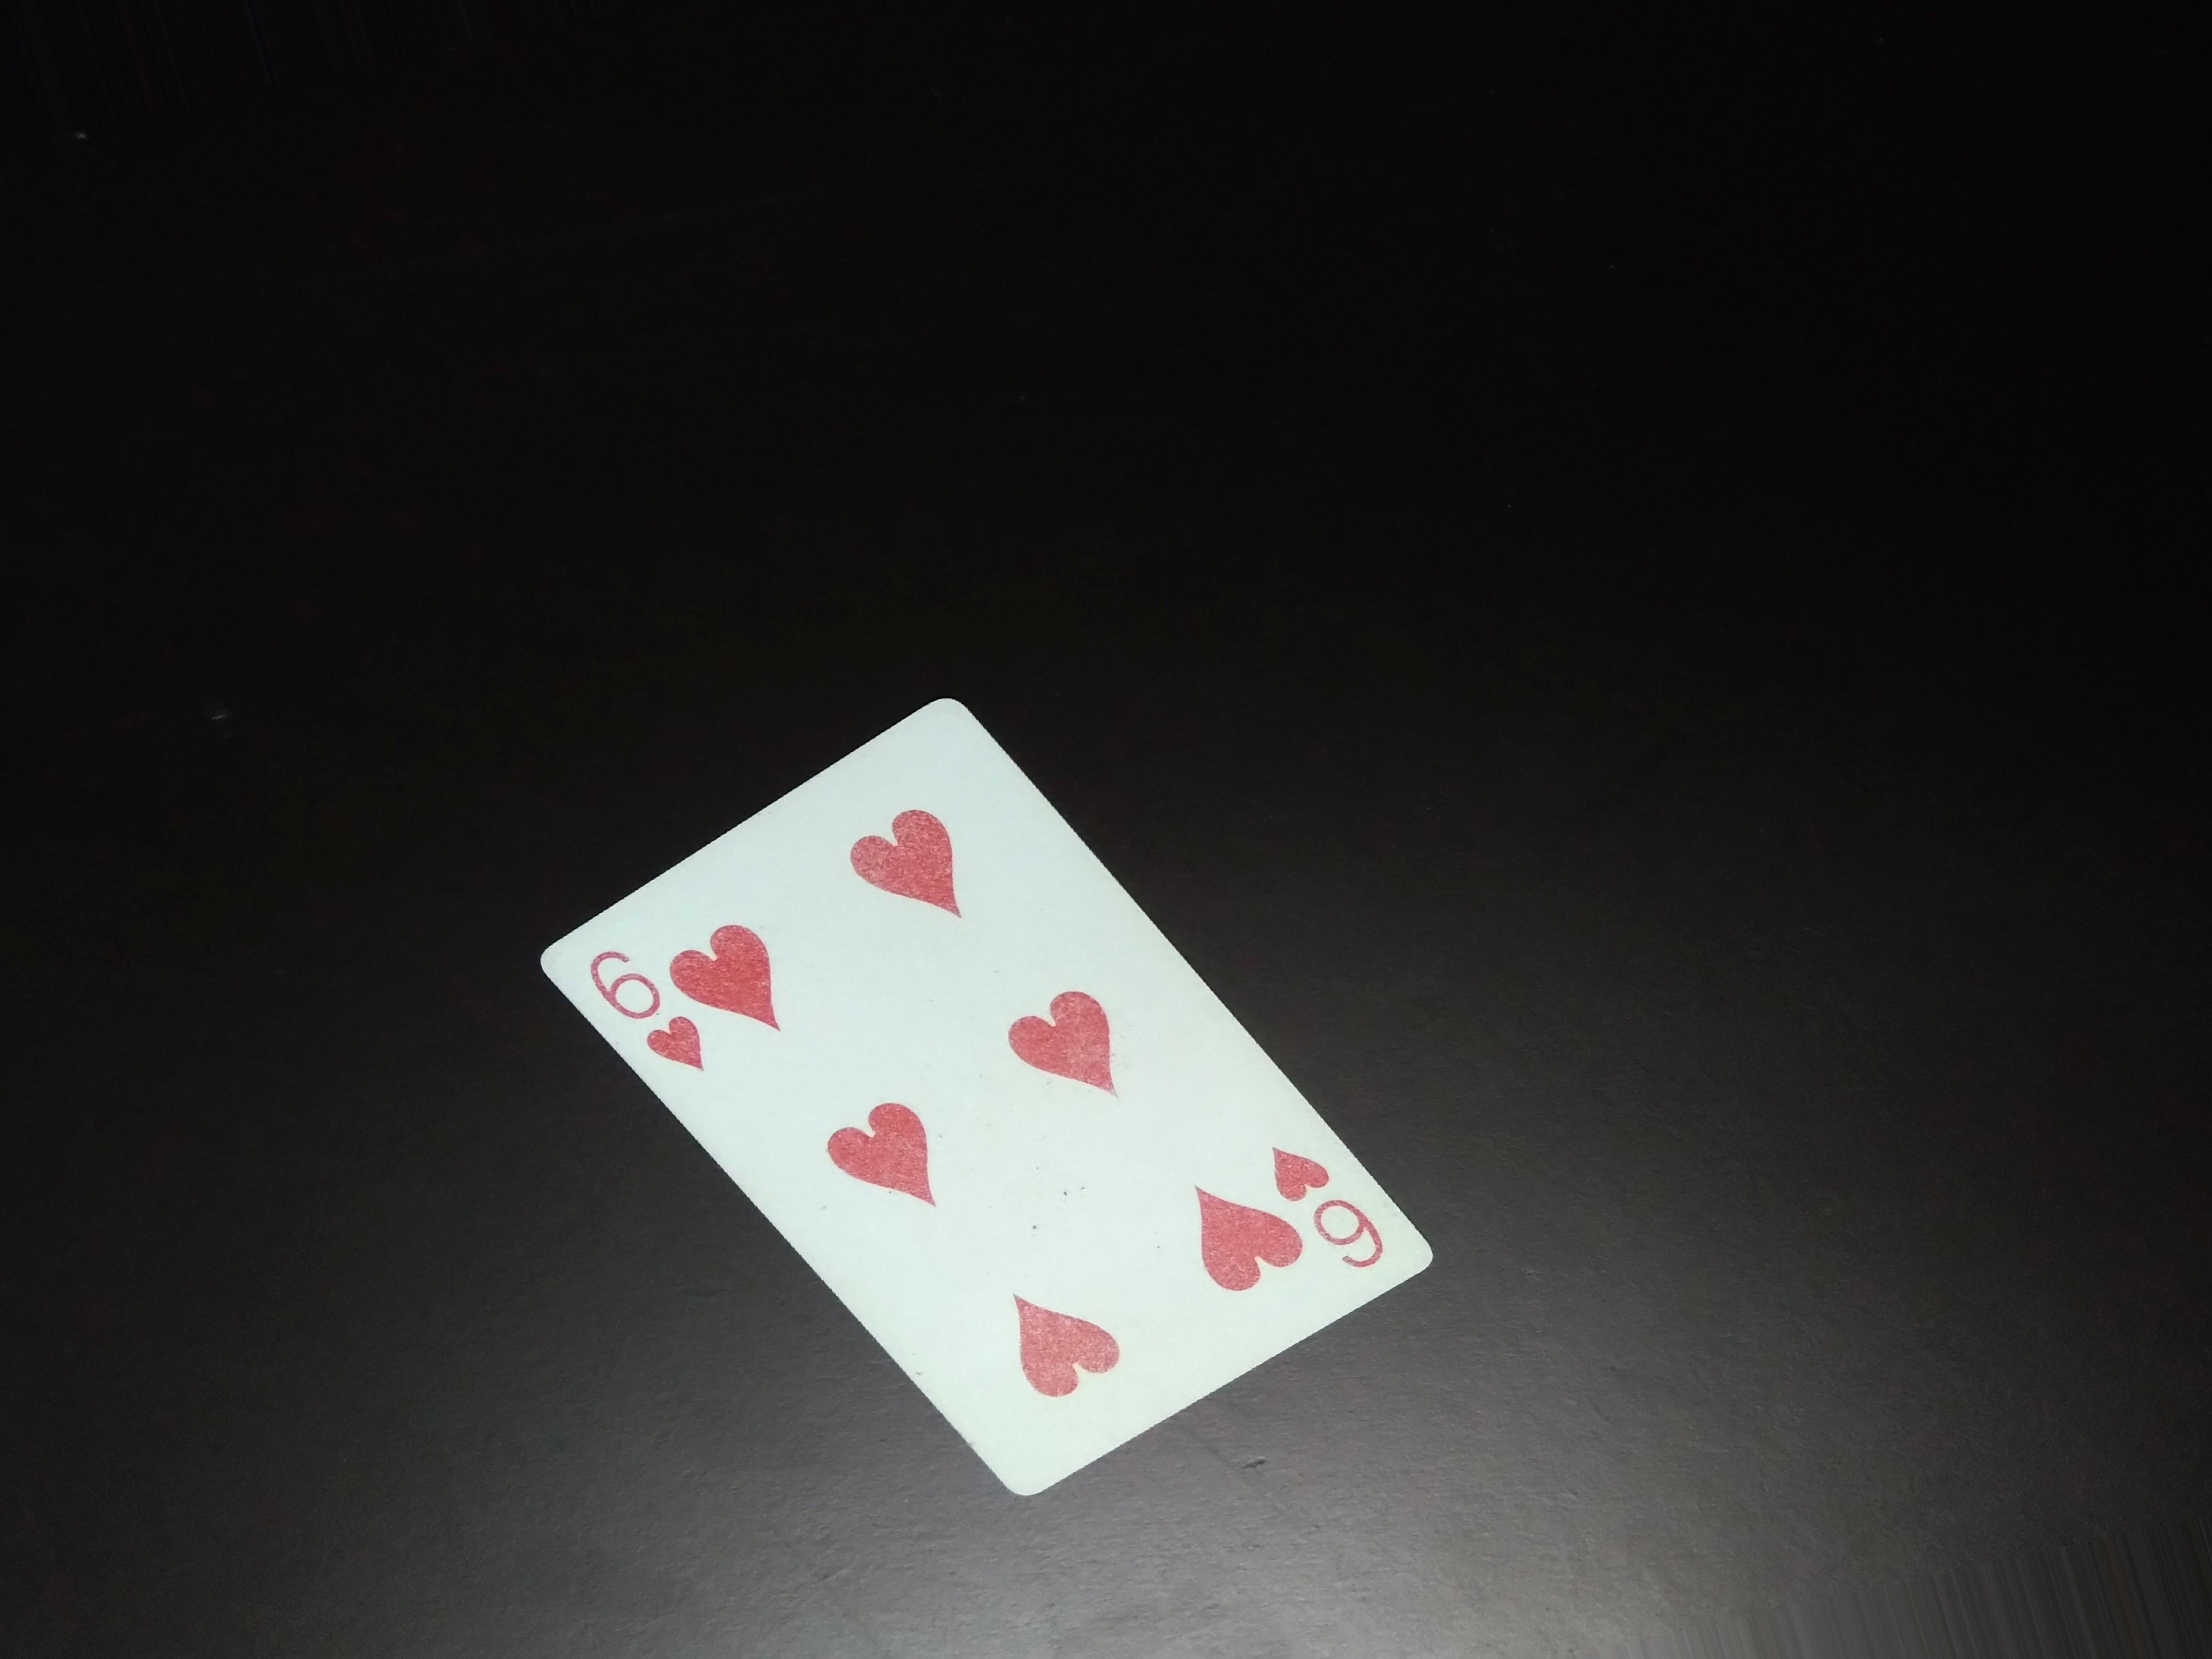6H: (1268, 1136, 1399, 1265)
